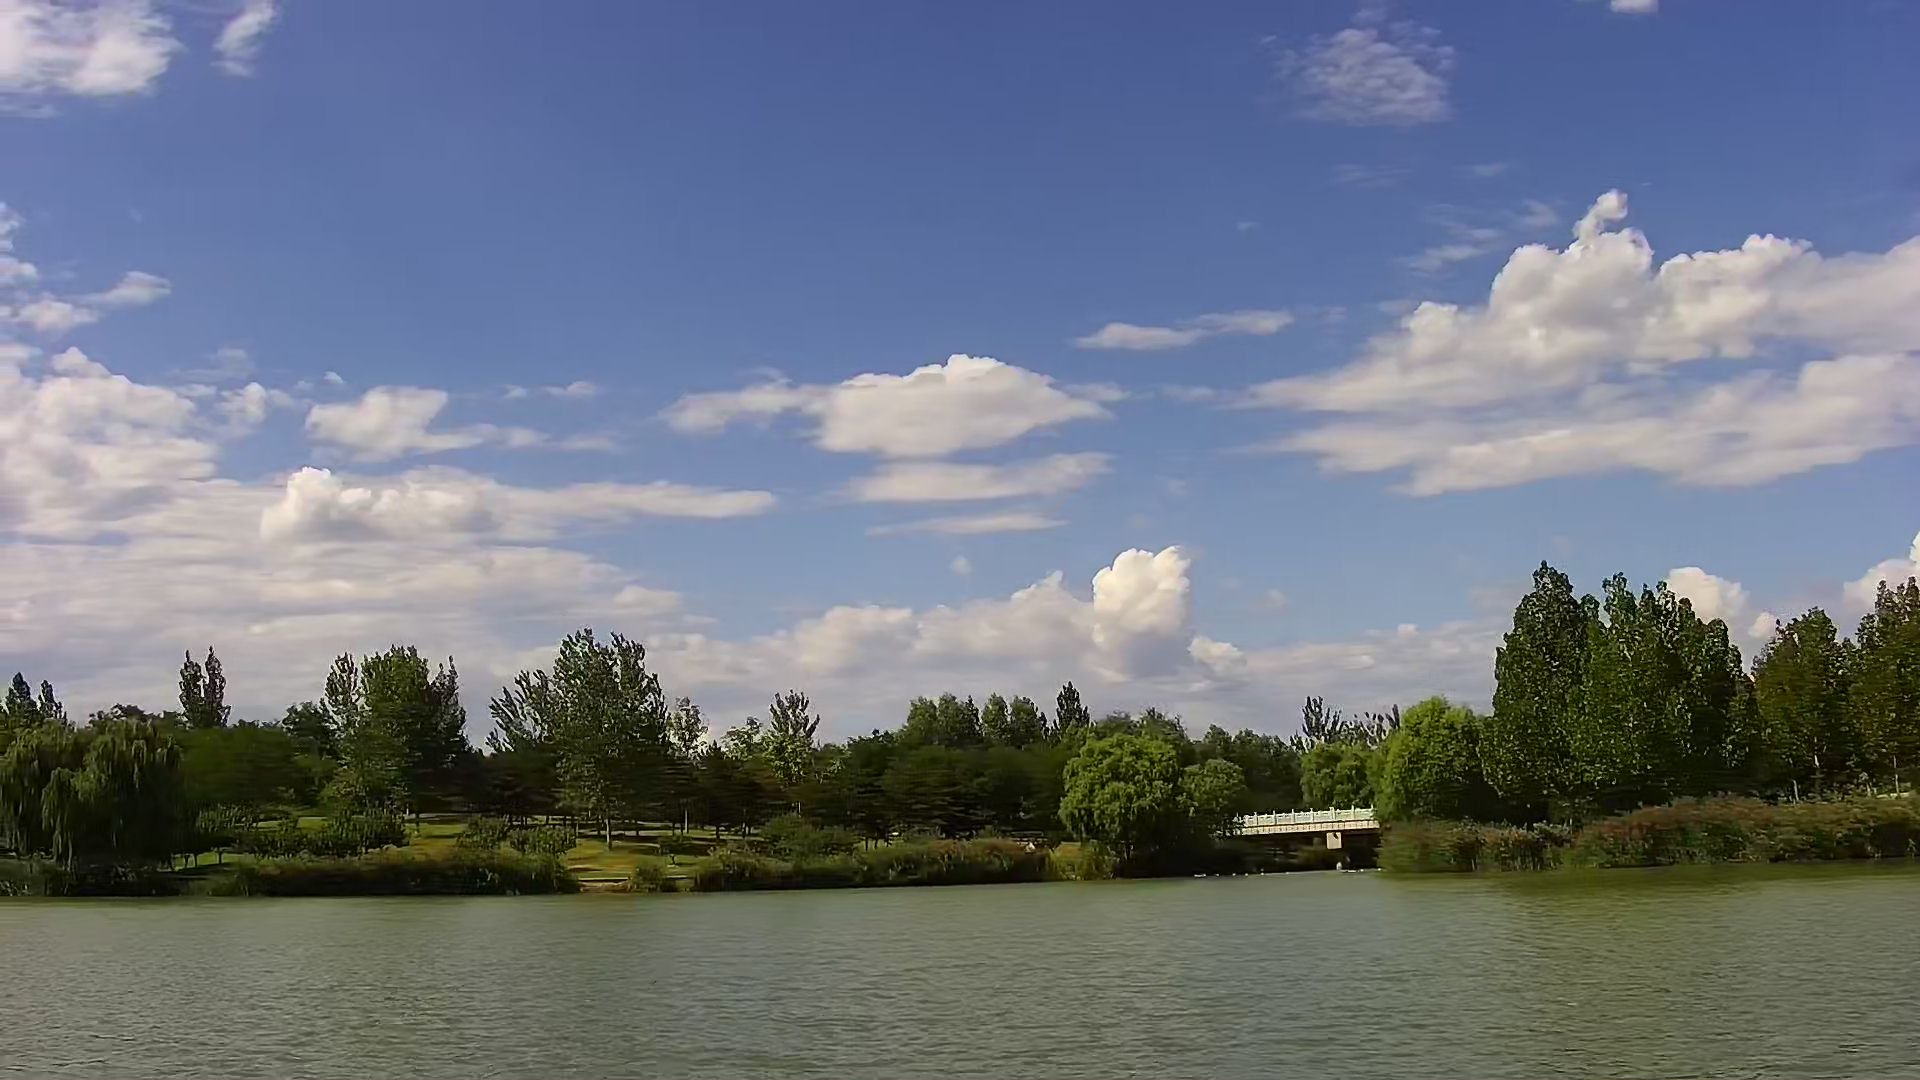bridge: (1233, 811, 1374, 872)
